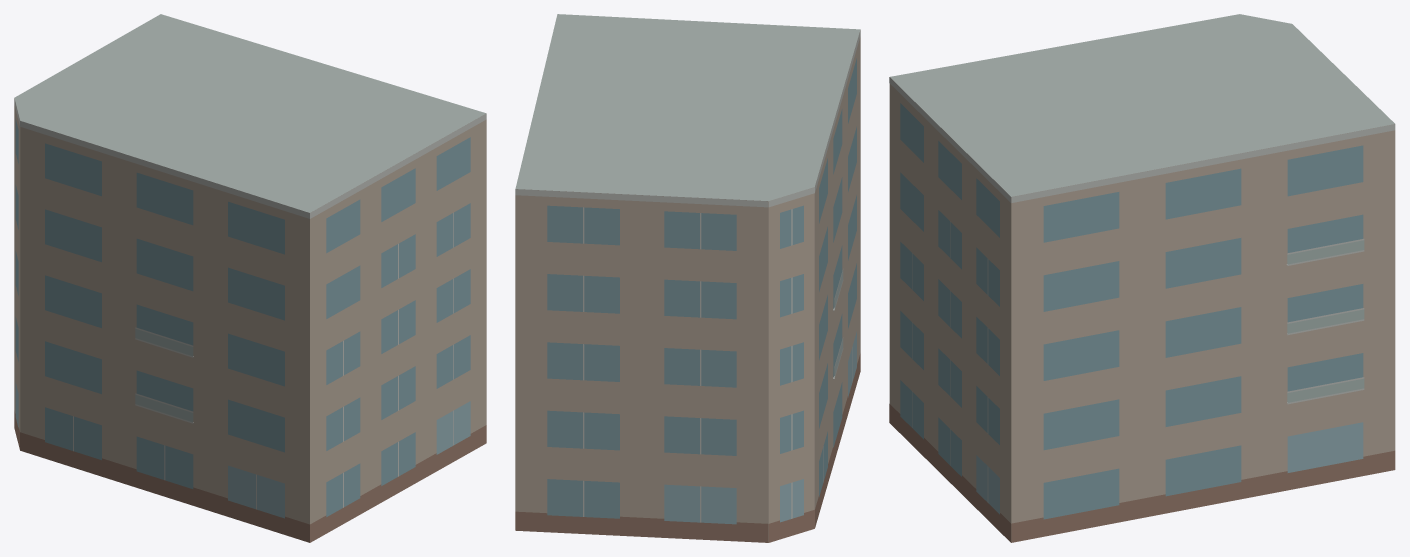
The model's file is survey-upis-32745460.glb.
3 views of the same model, side by side, from view 1: azimuth 30°, elevation 25°; view 2: azimuth 150°, elevation 25°; view 3: azimuth 270°, elevation 25° (orthographic). The views are drawn at different scales.
Visible parts, largest first — view 1: survey-upis-32745460.tmp; view 2: survey-upis-32745460.tmp; view 3: survey-upis-32745460.tmp.
Boxes of the visible parts, <box> form: survey-upis-32745460.tmp: <box>14,14,486,542</box>; survey-upis-32745460.tmp: <box>515,14,860,542</box>; survey-upis-32745460.tmp: <box>889,14,1395,542</box>.
Bounding box in the file's own units: 15.2 × 13.4 × 17.77.
